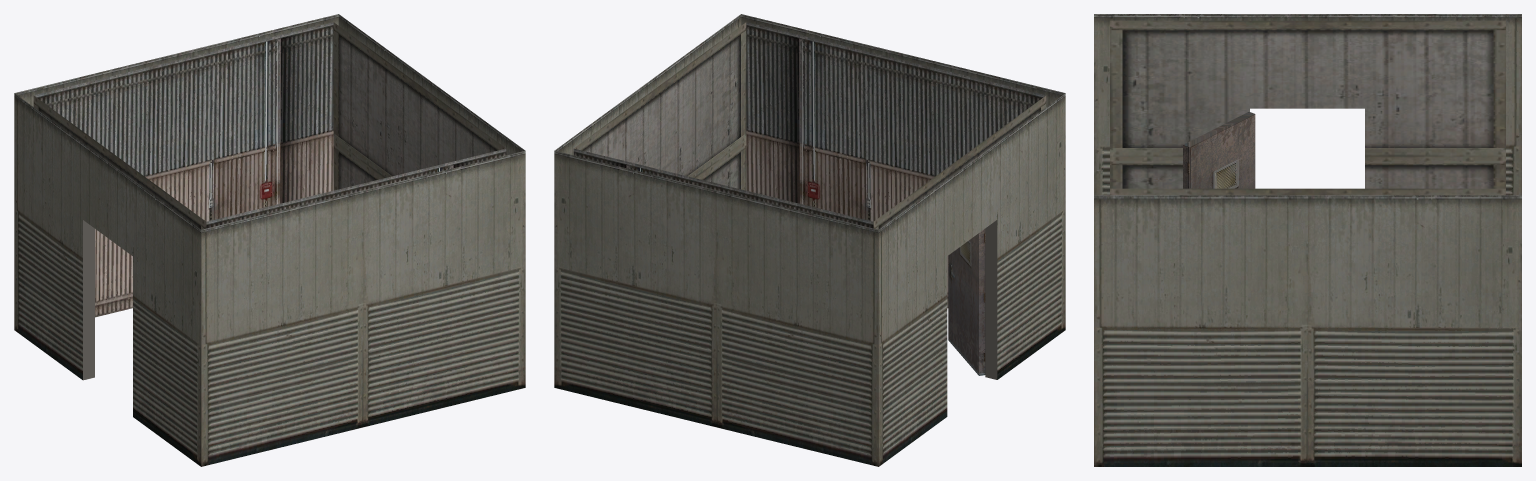
Rendered from OBLD03.glb.
The picture shows the model from 3 angles, left to right: view 1: azimuth 30°, elevation 25°; view 2: azimuth 150°, elevation 25°; view 3: azimuth 270°, elevation 25°; orthographic projection. The views are drawn at different scales.
Parts seen in each view (by area): view 1: _OBLD03; view 2: _OBLD03; view 3: _OBLD03.
Part boxes in pixels (<box>): _OBLD03: <box>14,14,525,466</box>; _OBLD03: <box>554,14,1065,466</box>; _OBLD03: <box>1094,14,1521,466</box>.
Bounding box in the file's own units: 5.01 × 3.5 × 5.
4 materials, 4 textured.
